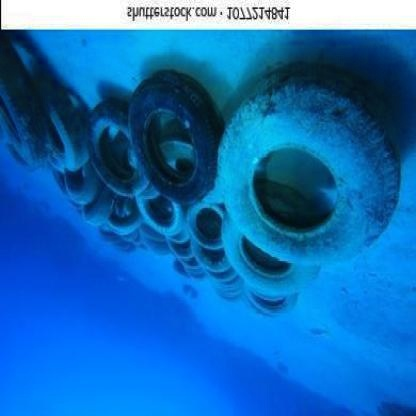tire: (212, 82, 404, 278), (223, 203, 333, 321), (130, 61, 213, 178), (16, 70, 97, 177), (80, 111, 151, 202), (70, 166, 136, 242), (1, 52, 48, 157), (135, 177, 192, 236), (184, 194, 235, 256)
